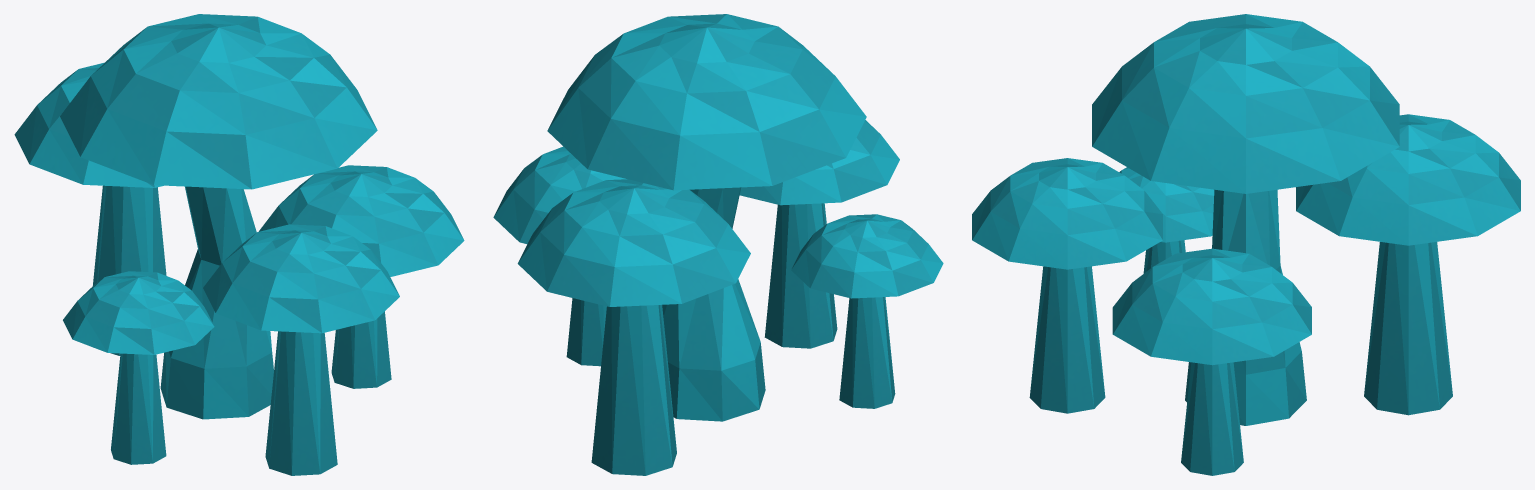
File: Mushroom_Gr_4B.fbx
The picture shows the model from 3 angles, left to right: view 1: azimuth 30°, elevation 25°; view 2: azimuth 150°, elevation 25°; view 3: azimuth 270°, elevation 25°; orthographic projection.
Visible parts, largest first — view 1: polySurface695; view 2: polySurface695; view 3: polySurface695.
Part boxes in pixels (x1,y1,x2,y2): polySurface695: [14, 14, 464, 475]; polySurface695: [493, 14, 943, 475]; polySurface695: [972, 14, 1520, 475].
Size of the model in its own units: 162 by 141 by 189.
Materials: 1 (1 with a texture image).
